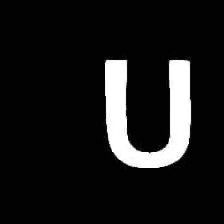LTR_U: (100, 48, 198, 174)
